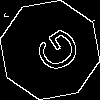G: (25, 25, 84, 82)
